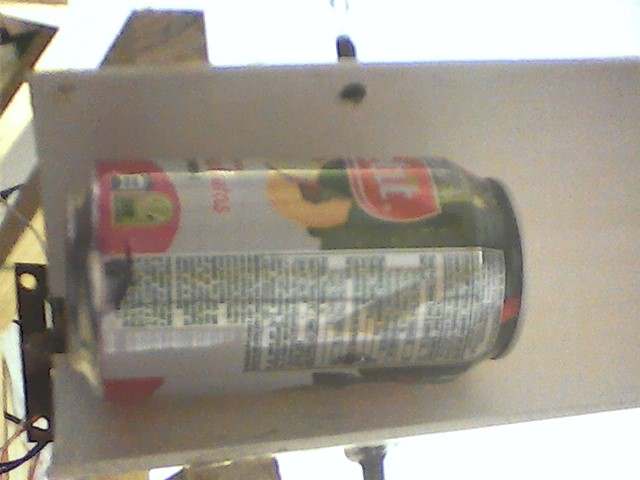lata: (59, 149, 535, 417)
